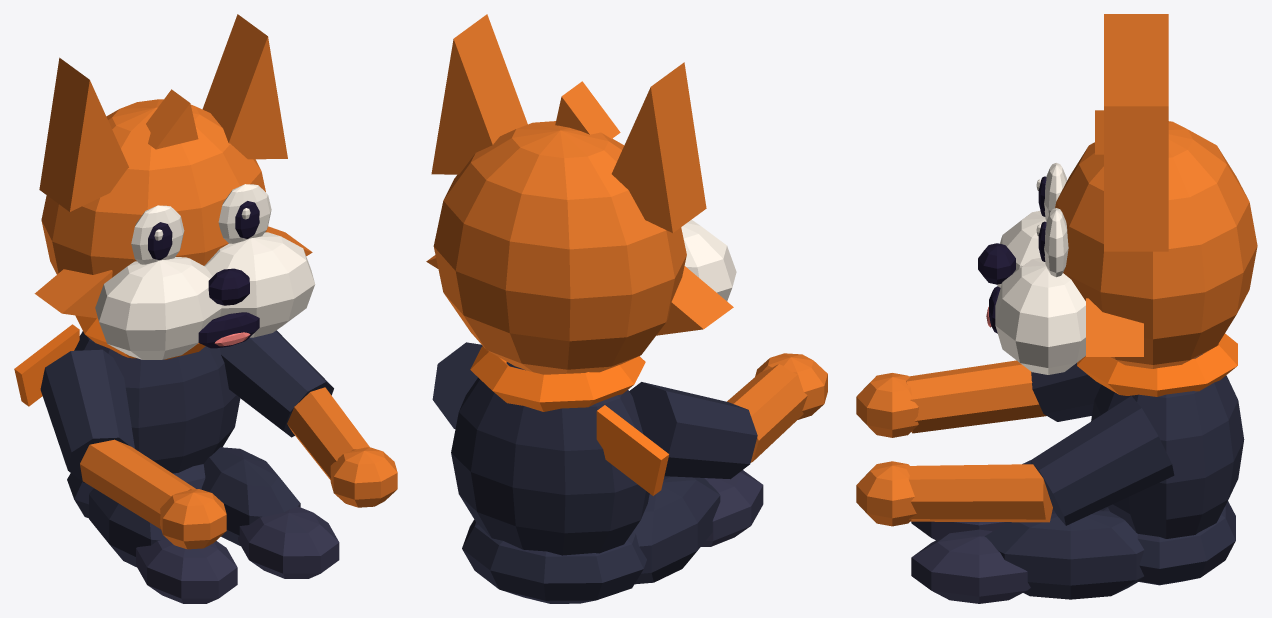
3 renders of one model, left to right at view 1: azimuth 30°, elevation 25°; view 2: azimuth 150°, elevation 25°; view 3: azimuth 270°, elevation 25°, orthographic. The views are drawn at different scales.
Parts seen in each view (by area): view 1: surface_fur (×2), surface_shirt, surface_fur_secondary, surface_boot, surface_ink, surface_ivory, hand_l, hand_r, surface_scarf; view 2: surface_fur (×2), surface_shirt, surface_scarf, surface_boot, surface_fur_secondary, hand_r; view 3: surface_fur (×2), surface_shirt, surface_fur_secondary, surface_boot, surface_scarf, hand_r, hand_l, surface_ivory, surface_ink.
Boxes of the visible parts, x1,y1,x2,y2 form: surface_fur (×2): (34,14,369,529); surface_shirt: (40,330,333,567); surface_fur_secondary: (95,232,315,359); surface_boot: (136,506,339,603); surface_ink: (148,201,259,348); surface_ivory: (131,184,271,264); hand_l: (330,447,397,507); hand_r: (160,489,226,549); surface_scarf: (14,315,205,406); surface_fur (×2): (426,14,807,462); surface_shirt: (432,342,757,603); surface_scarf: (470,346,669,495); surface_boot: (701,470,763,546); surface_fur_secondary: (681,219,736,301); hand_r: (755,353,827,419); surface_fur (×2): (906,14,1257,522); surface_shirt: (984,354,1244,599); surface_fur_secondary: (995,210,1085,374); surface_boot: (911,521,1030,603); surface_scarf: (1077,333,1237,396); hand_r: (856,373,918,437); hand_l: (856,461,916,526); surface_ivory: (1036,163,1068,277); surface_ink: (978,176,1046,333).
Size of the model in its own units: 0.722 by 1.27 by 0.9008.
